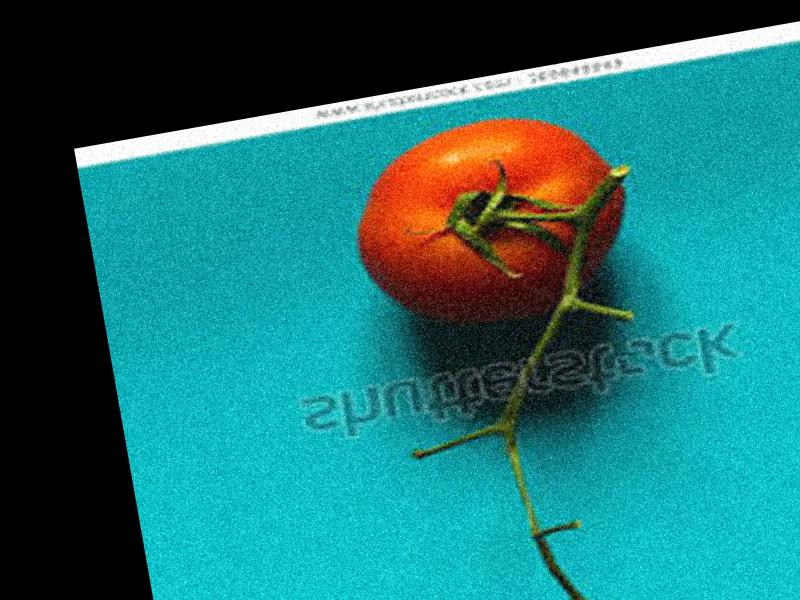Tomato: (342, 102, 643, 338)
